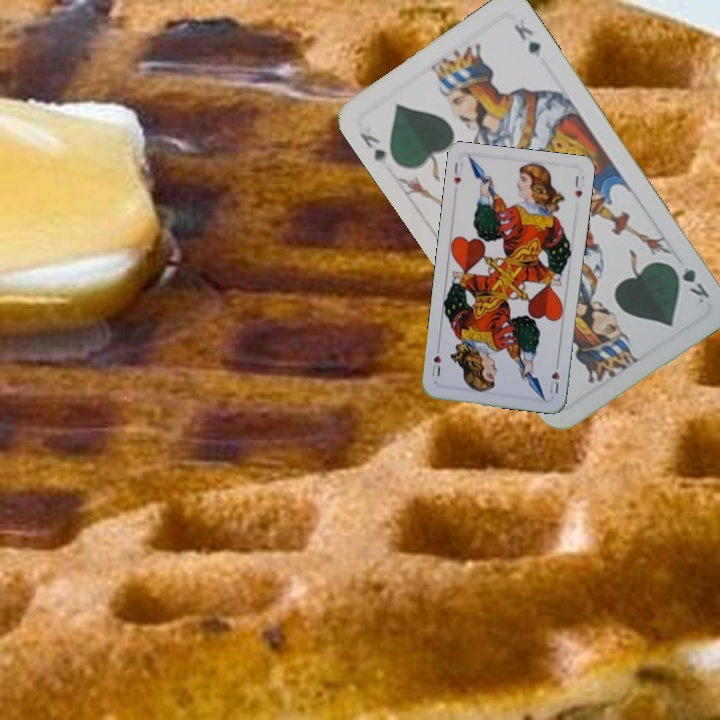GK: (666, 259, 713, 306), (355, 128, 391, 168)
HU: (546, 357, 562, 396), (449, 158, 466, 187)
